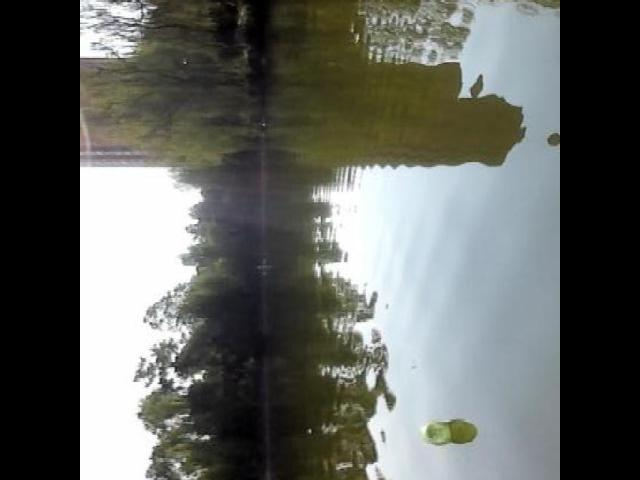Bottle: (418, 414, 462, 452)
